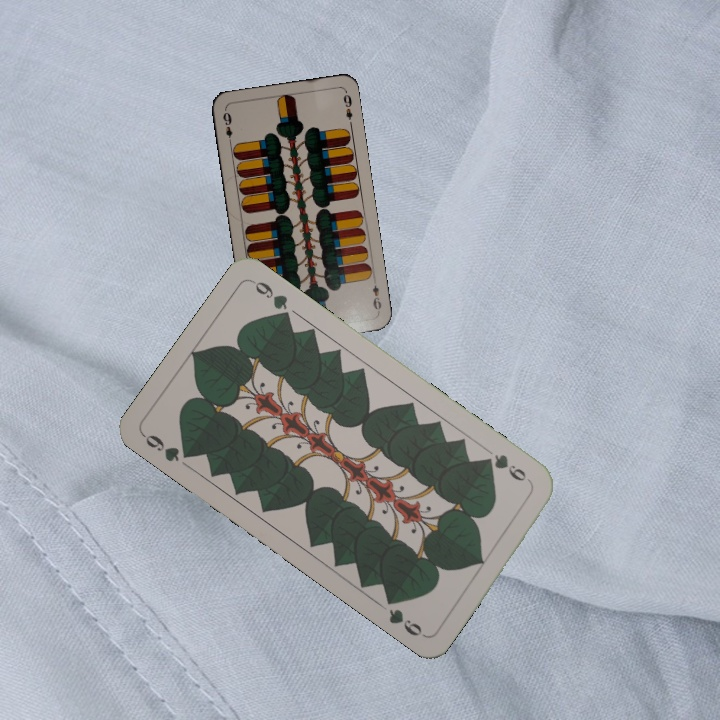E9: (368, 275, 384, 315), (219, 108, 235, 147)
G9: (479, 449, 535, 487), (139, 430, 197, 465)
